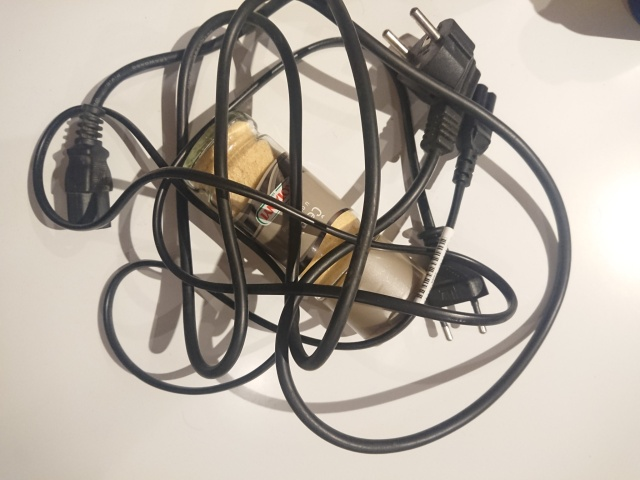Kotanyi Garlic Granules 70g: (175, 108, 433, 344)
